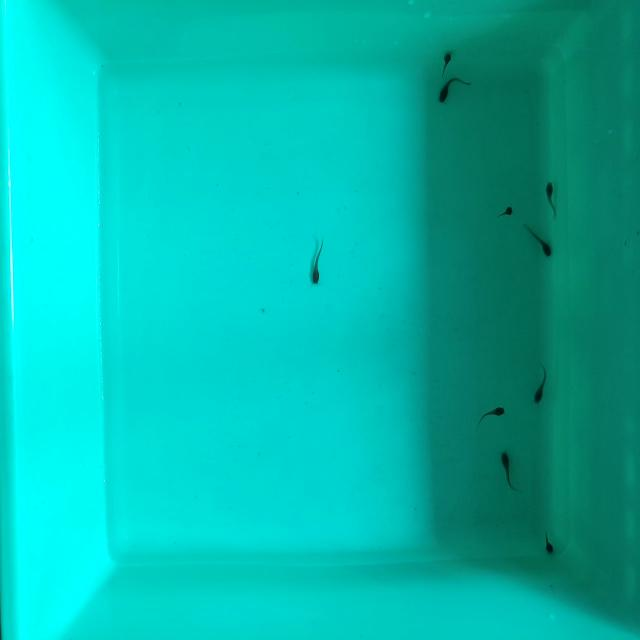lele: (524, 222, 553, 258), (436, 78, 474, 102), (532, 363, 551, 405), (313, 240, 324, 285), (478, 406, 505, 418), (546, 182, 556, 213), (501, 451, 510, 483), (545, 528, 554, 554), (442, 52, 450, 78), (498, 206, 514, 217)
